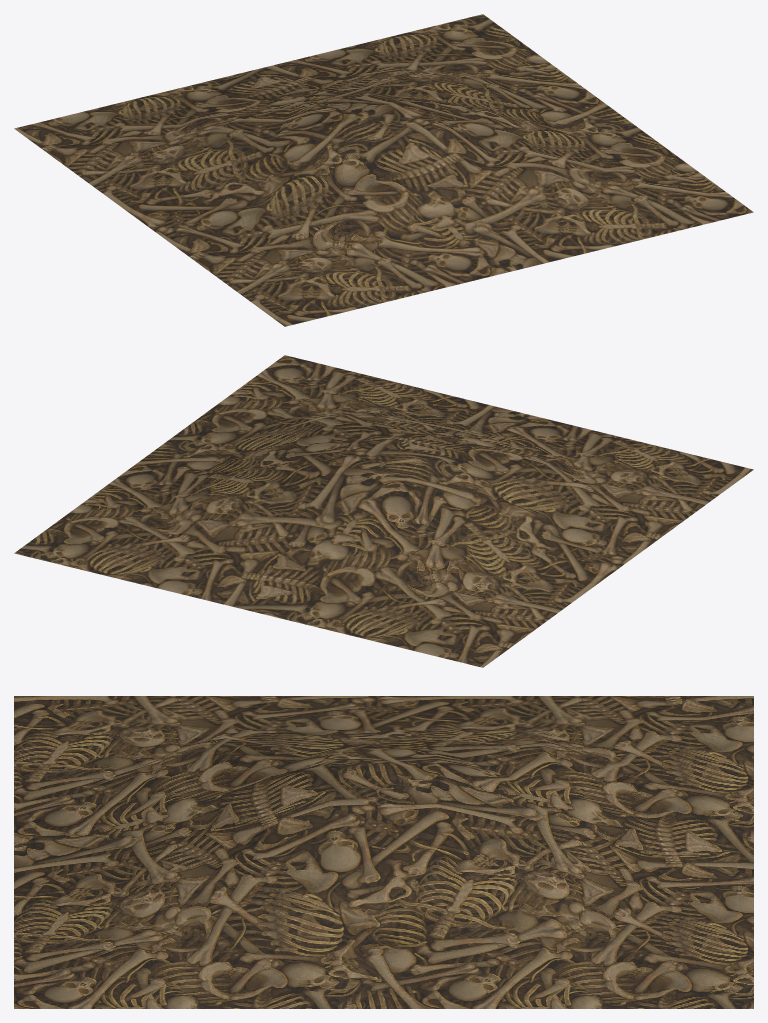
The picture shows the model from 3 angles, top to bottom: view 1: azimuth 30°, elevation 25°; view 2: azimuth 150°, elevation 25°; view 3: azimuth 270°, elevation 25°; orthographic projection. The views are drawn at different scales.
Visible parts, largest first — view 1: pPlane1; view 2: pPlane1; view 3: pPlane1.
Part boxes in pixels (<box>): pPlane1: <box>14,14,753,326</box>; pPlane1: <box>14,355,753,667</box>; pPlane1: <box>14,696,753,1008</box>.
Size of the model in its own units: 1.68 by 0.1601 by 1.68.
